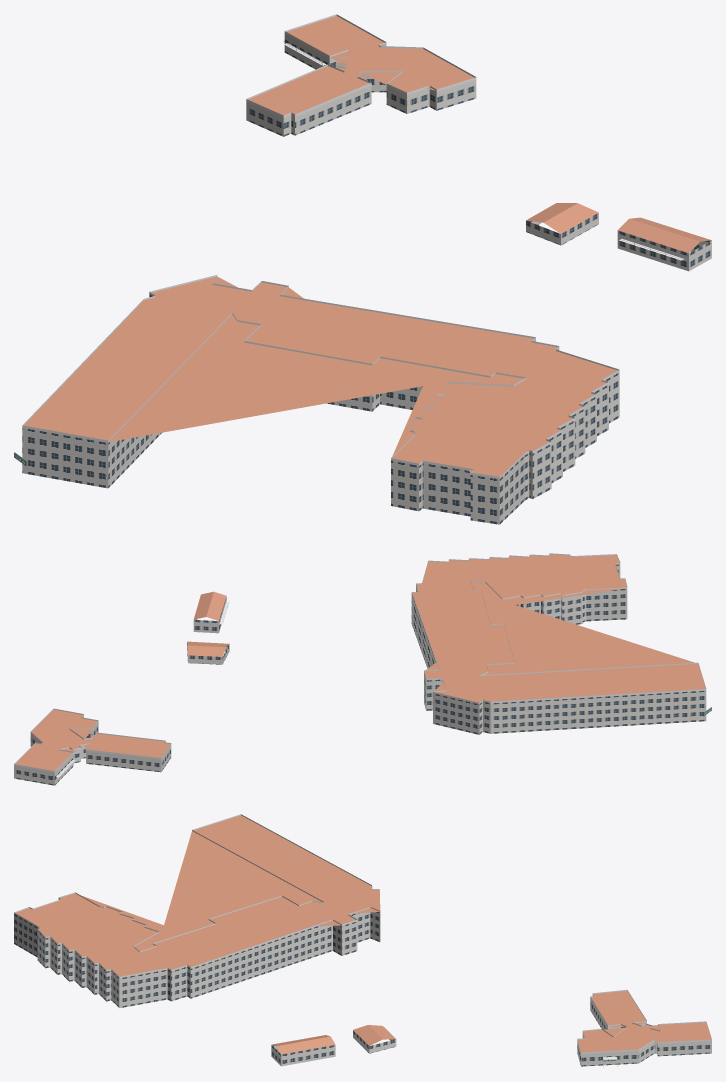
Rendered from casadelmar.glb.
The picture shows the model from 3 angles, top to bottom: view 1: azimuth 30°, elevation 25°; view 2: azimuth 150°, elevation 25°; view 3: azimuth 270°, elevation 25°; orthographic projection. The views are drawn at different scales.
Visible parts, largest first — view 1: casadelmar_lod0; view 2: casadelmar_lod0; view 3: casadelmar_lod0.
Part boxes in pixels (bbox=[...]): casadelmar_lod0: bbox=[14, 14, 711, 524]; casadelmar_lod0: bbox=[14, 553, 711, 785]; casadelmar_lod0: bbox=[14, 814, 711, 1067].
Size of what is drawn, in the model's own units: 215 by 13.57 by 272.
5 materials, 2 textured.
